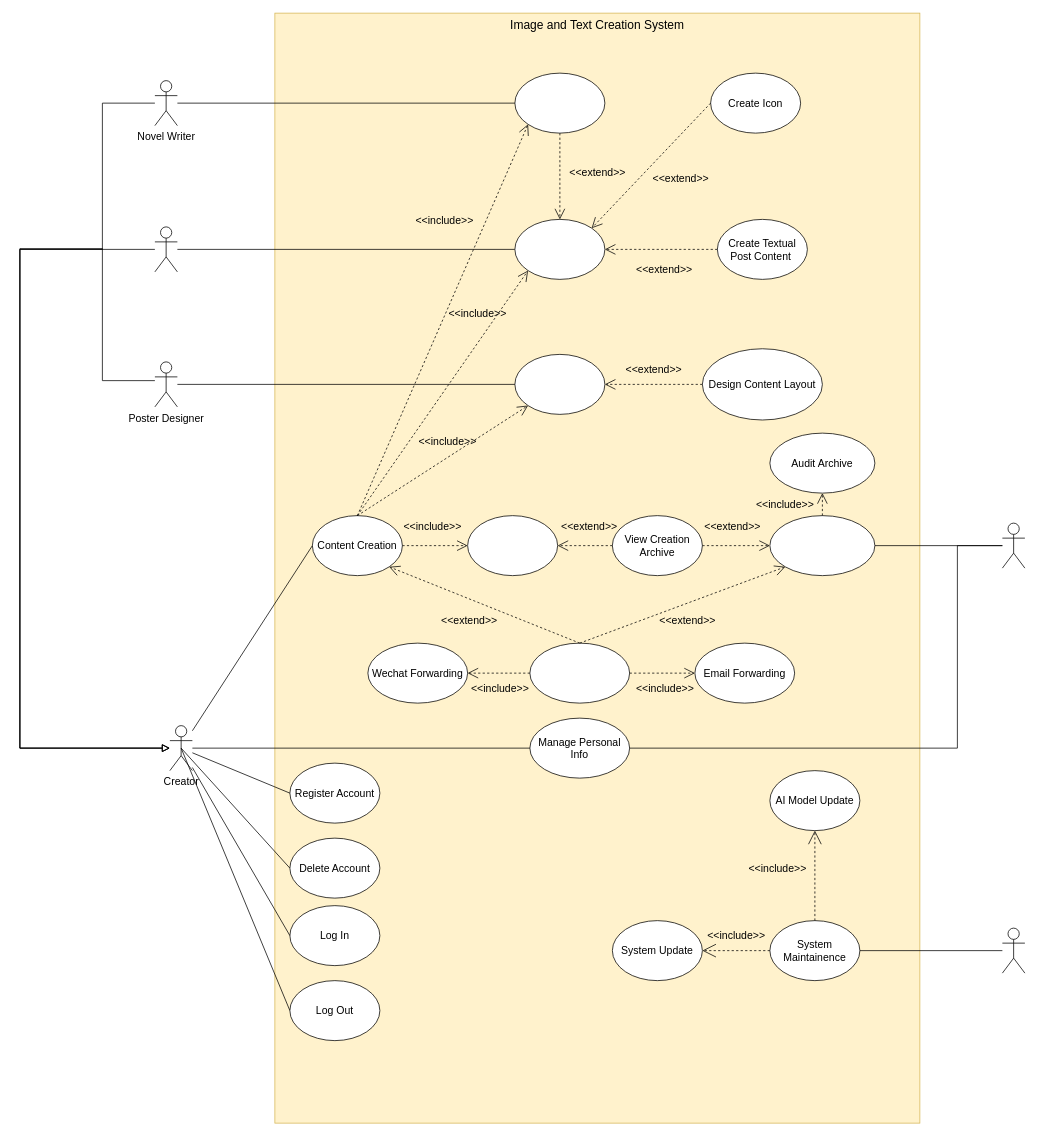
This 1058x1136 diagram has some shape labels left out. The shapes that lost their labels are listed below. From the top down, each one's centre as x and y in pixels, then its label:
[559,102]: Create Illustration
[165,249]: Social Media User
[559,249]: Create Social Media Post
[559,384]: Create Poster
[512,545]: Creation Archive
[822,545]: Content Audit
[1013,545]: supervisor
[579,672]: Forwarding
[1013,950]: Administrator
